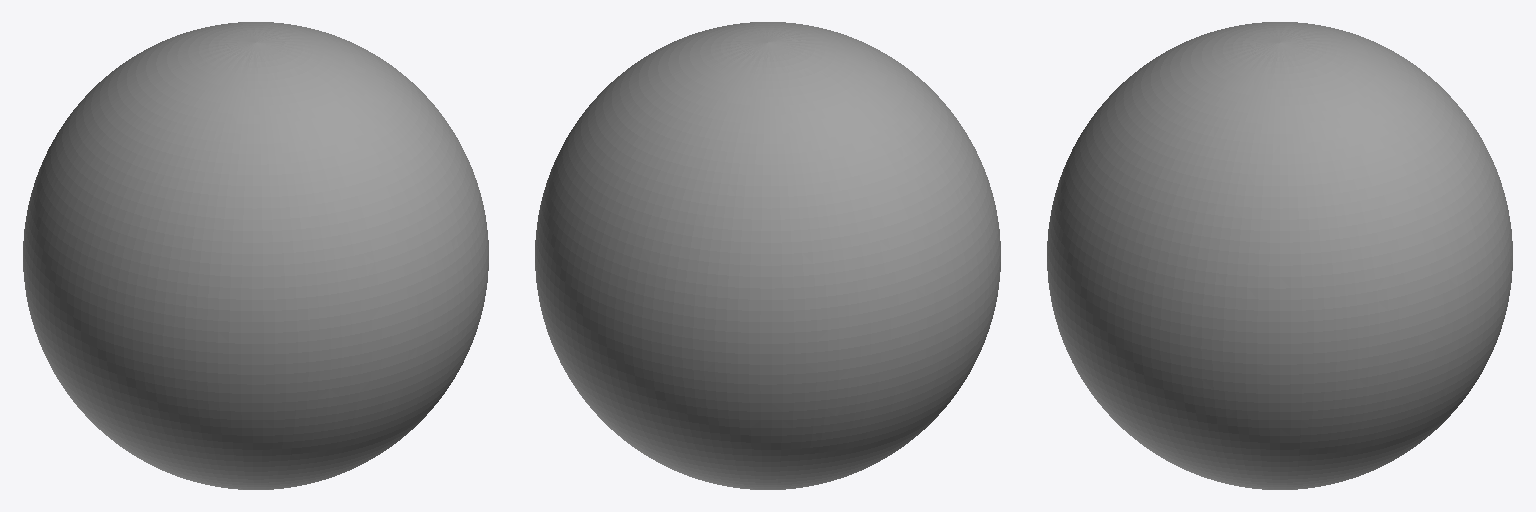
Rendered from ball.obj.
3 renders of one model, left to right at view 1: azimuth 30°, elevation 25°; view 2: azimuth 150°, elevation 25°; view 3: azimuth 270°, elevation 25°, orthographic.
Visible parts, largest first — view 1: Sphere; view 2: Sphere; view 3: Sphere.
Part boxes in pixels (bbox=[...]): Sphere: bbox=[23, 22, 488, 489]; Sphere: bbox=[535, 22, 1000, 489]; Sphere: bbox=[1047, 22, 1512, 489].
Bounding box in the file's own units: 54.9 × 55.48 × 54.9.